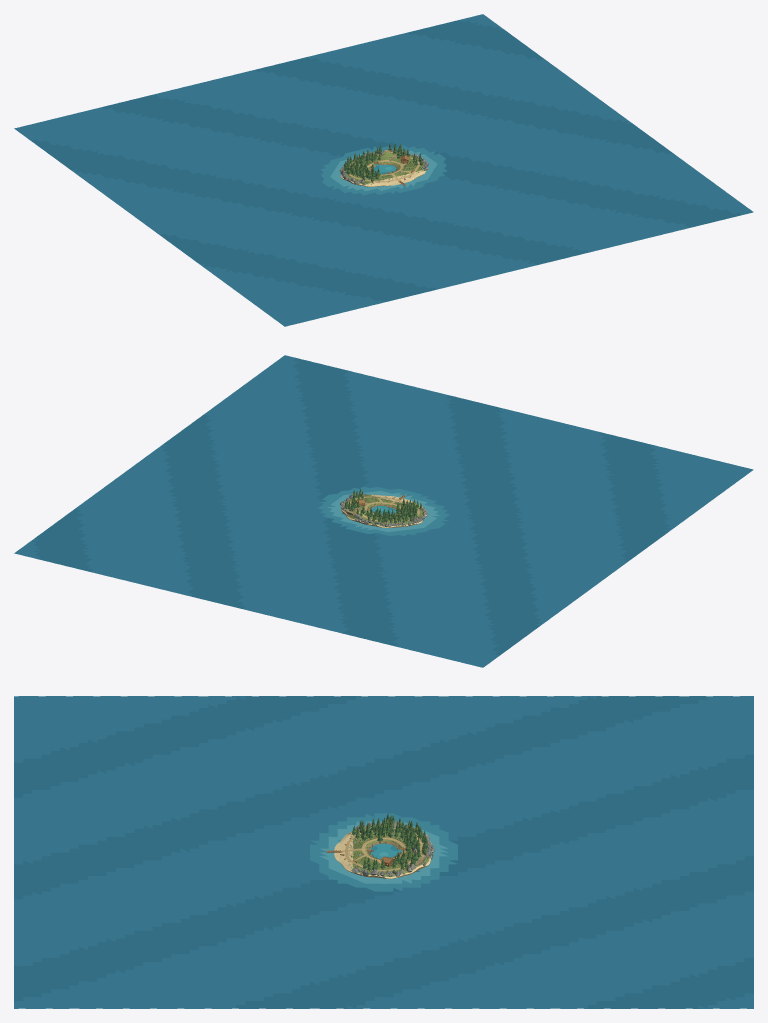
The model's file is Environment.fbx.
3 views of the same model, one above another, from view 1: azimuth 30°, elevation 25°; view 2: azimuth 150°, elevation 25°; view 3: azimuth 270°, elevation 25° (orthographic). The views are drawn at different scales.
Parts seen in each view (by area): view 1: Water_Ocean, Terrain_Island_COLLIDABLE; view 2: Water_Ocean, Terrain_Island_COLLIDABLE; view 3: Water_Ocean, Terrain_Island_COLLIDABLE.
Part boxes in pixels (<box>): Water_Ocean: <box>14,14,753,326</box>; Terrain_Island_COLLIDABLE: <box>341,151,425,186</box>; Water_Ocean: <box>14,355,753,667</box>; Terrain_Island_COLLIDABLE: <box>341,494,426,527</box>; Water_Ocean: <box>14,696,753,1008</box>; Terrain_Island_COLLIDABLE: <box>334,827,430,878</box>.
Size of the model in its own units: 600 by 19.51 by 600.
